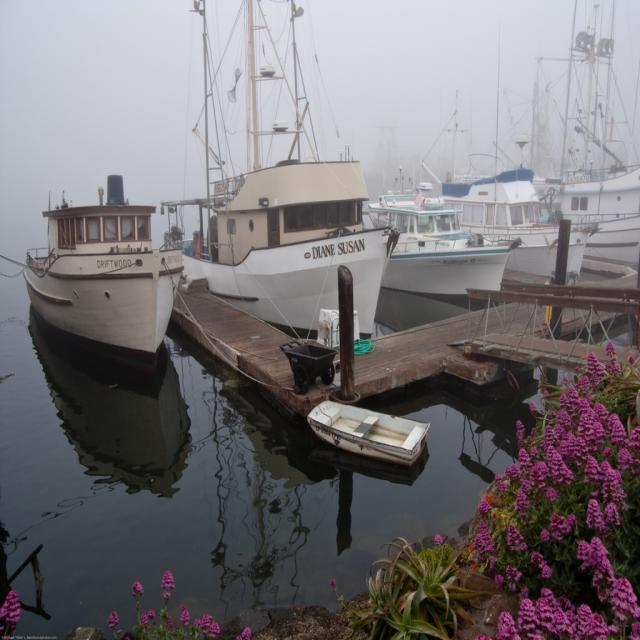Boat: (164, 0, 400, 343), (490, 0, 639, 263), (416, 87, 590, 284), (18, 172, 186, 354), (361, 162, 520, 298), (309, 397, 430, 467)
